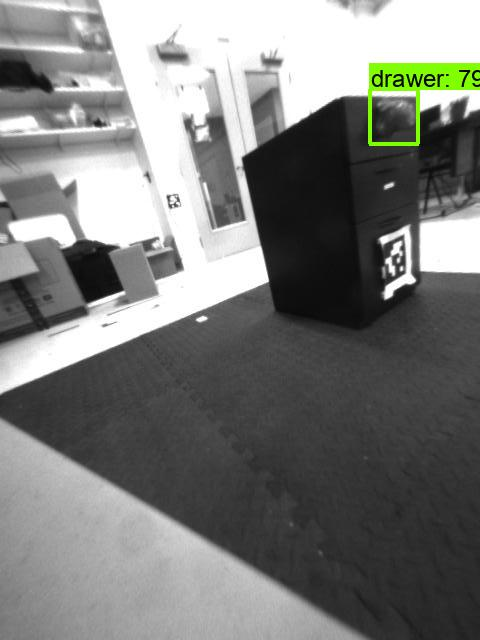drawer: (364, 90, 422, 145)
